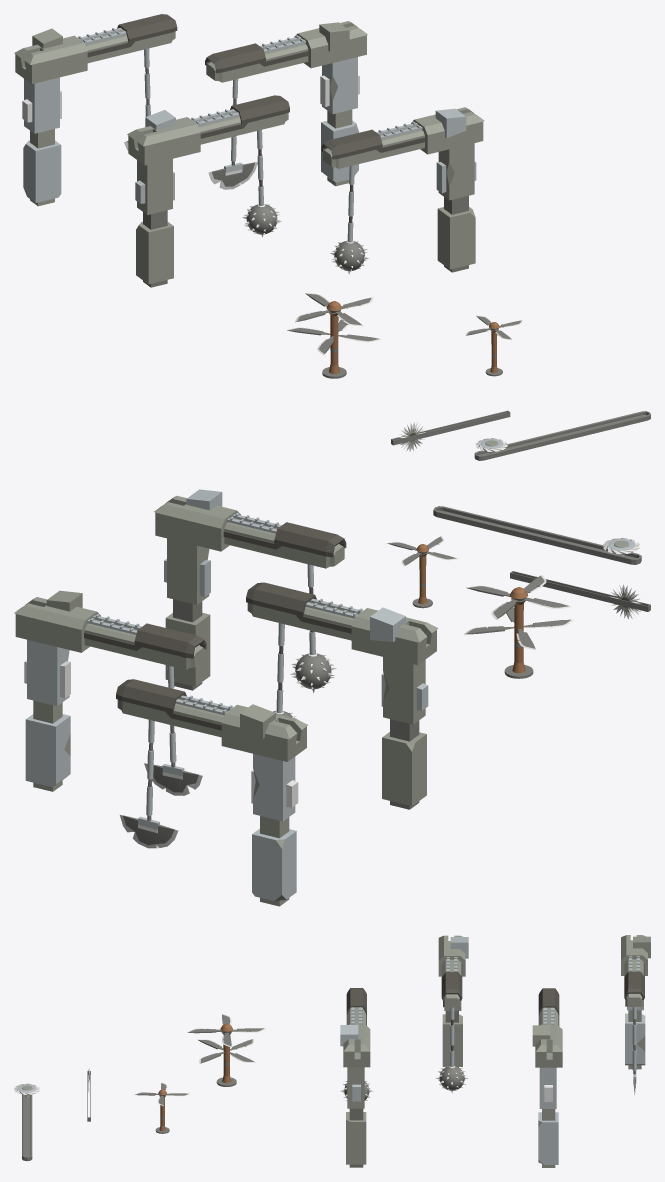
Rendered from obstacles1.fbx.
3 views of the same model, one above another, from view 1: azimuth 30°, elevation 25°; view 2: azimuth 150°, elevation 25°; view 3: azimuth 270°, elevation 25° (orthographic). The views are drawn at different scales.
Visible parts, largest first — view 1: piller.002, piller.003, piller, piller.001, pole.003, spike ball, spikeball, big blade, pole.002, pole.001, blade, blade.001; view 2: piller.001, piller.003, piller.002, piller, pole.003, b==big blade, big blade, spike ball, pole.002, pole.001, blade, blade.001 (+2 smaller); view 3: piller.001, piller, piller.003, piller.002, spikeball, pole.003, blade.001, pole.001, blade, b==big blade.
Boxes of the visible parts, bbox=[...] form: piller.002: bbox=[14, 14, 177, 206]; piller.003: bbox=[127, 95, 289, 287]; piller: bbox=[321, 107, 484, 272]; piller.001: bbox=[205, 21, 367, 186]; pole.003: bbox=[474, 411, 650, 460]; spike ball: bbox=[330, 165, 369, 274]; spikeball: bbox=[242, 130, 281, 237]; big blade: bbox=[208, 79, 257, 189]; pole.002: bbox=[391, 410, 510, 445]; pole.001: bbox=[322, 301, 346, 378]; blade: bbox=[295, 293, 373, 326]; blade.001: bbox=[287, 319, 381, 354]; piller.001: bbox=[14, 590, 206, 791]; piller.003: bbox=[246, 582, 438, 809]; piller.002: bbox=[116, 679, 308, 906]; piller: bbox=[154, 489, 346, 690]; pole.003: bbox=[433, 506, 641, 564]; b==big blade: bbox=[120, 720, 178, 848]; big blade: bbox=[144, 665, 202, 795]; spike ball: bbox=[290, 564, 336, 693]; pole.002: bbox=[510, 571, 650, 611]; pole.001: bbox=[504, 587, 533, 678]; blade: bbox=[466, 575, 571, 619]; blade.001: bbox=[464, 603, 574, 650]; piller.001: bbox=[532, 988, 562, 1167]; piller: bbox=[340, 988, 370, 1167]; piller.003: bbox=[438, 935, 468, 1067]; piller.002: bbox=[621, 935, 650, 1069]; spikeball: bbox=[435, 1007, 468, 1093]; pole.003: bbox=[22, 1094, 32, 1161]; blade.001: bbox=[197, 1039, 255, 1063]; pole.001: bbox=[216, 1023, 236, 1086]; blade: bbox=[187, 1014, 266, 1047]; b==big blade: bbox=[632, 1007, 636, 1094].
Bounding box in the file's own units: 1463 × 861 × 3456.
1 material, 1 textured.
